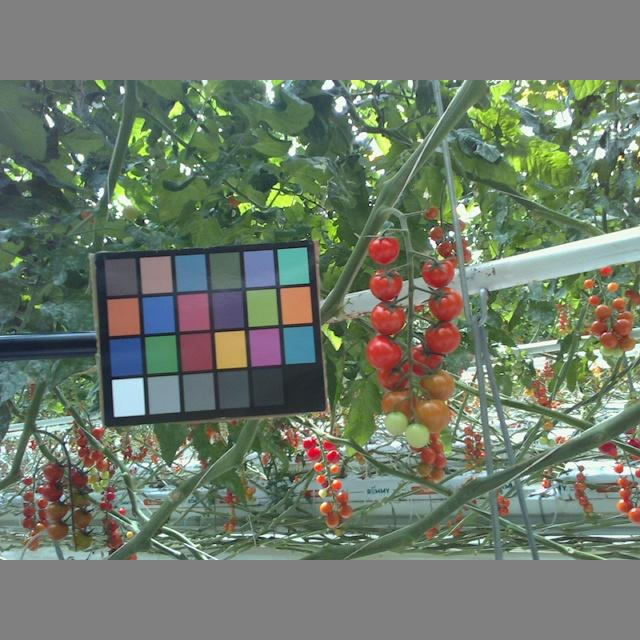green: (404, 423, 430, 449), (382, 411, 408, 436)
pink: (411, 399, 450, 437), (380, 387, 420, 423), (415, 370, 455, 401), (378, 367, 411, 387)
red: (406, 343, 443, 379), (367, 338, 404, 373), (421, 322, 462, 353), (370, 299, 406, 334), (428, 288, 463, 323), (369, 267, 403, 301), (367, 234, 401, 264), (422, 259, 454, 289)
